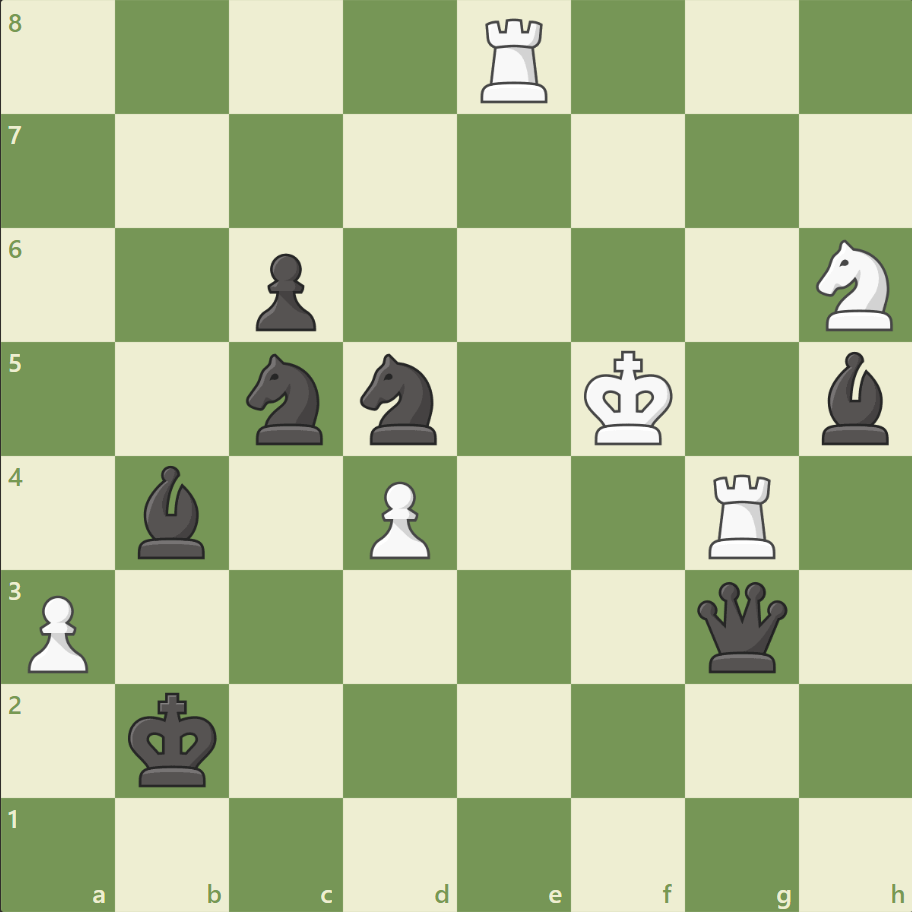K: (579, 344, 679, 452)
N: (806, 234, 903, 337)
P: (20, 586, 95, 677), (361, 473, 435, 564)
R: (473, 12, 556, 109), (700, 466, 783, 563)
b: (131, 460, 215, 563), (812, 347, 896, 449)
k: (124, 685, 224, 793)
n: (351, 348, 449, 450), (238, 348, 335, 450)
p: (247, 246, 322, 337)
q: (691, 576, 790, 676)
